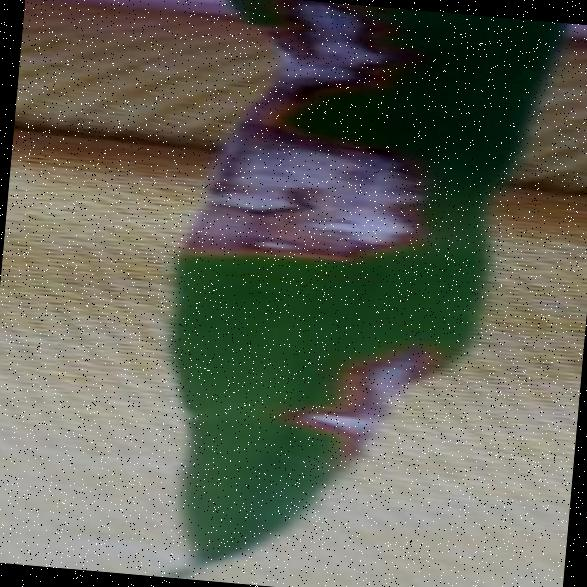Leaf_smut: (162, 0, 431, 283), (278, 294, 452, 462), (221, 0, 393, 101)
